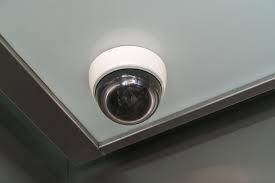Security camera: (0, 0, 274, 166), (87, 44, 167, 125)
